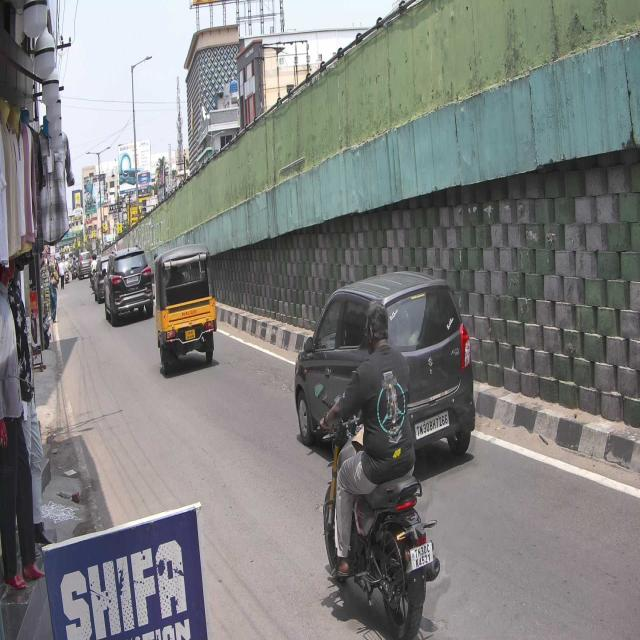single_rider: (313, 299, 442, 640)
